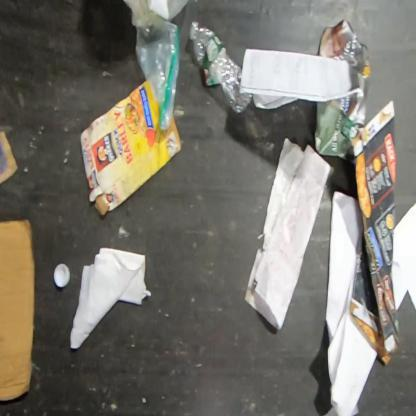cardboard: (79, 80, 183, 220), (348, 99, 401, 367), (0, 218, 36, 402), (0, 129, 19, 188)
rigid_plastic: (188, 18, 253, 114), (53, 262, 71, 288)
soft_plastic: (128, 0, 181, 130)
